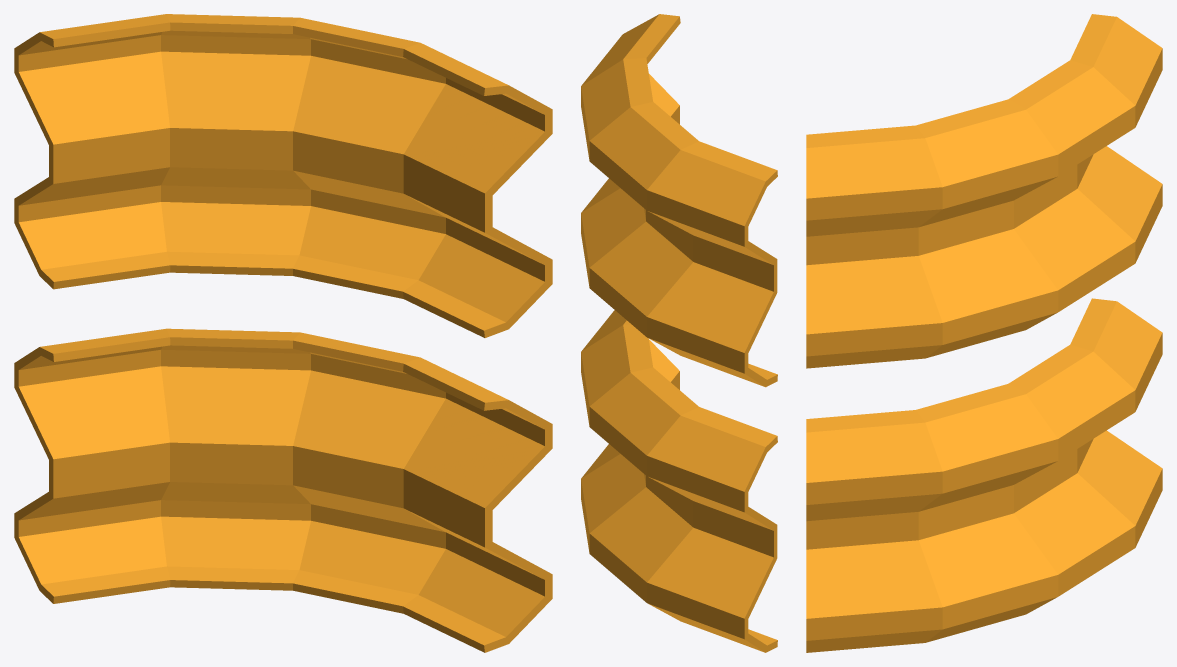
File: SM_Fence_Road_WBeam_Double_Metal_1m_Corner_Inner.fbx
The picture shows the model from 3 angles, left to right: view 1: azimuth 30°, elevation 25°; view 2: azimuth 150°, elevation 25°; view 3: azimuth 270°, elevation 25°; orthographic projection. The views are drawn at different scales.
Visible parts, largest first — view 1: SM_Fence_Road_WBeam_Double_Metal_1m_Corner_Inner; view 2: SM_Fence_Road_WBeam_Double_Metal_1m_Corner_Inner; view 3: SM_Fence_Road_WBeam_Double_Metal_1m_Corner_Inner.
Boxes of the visible parts, x1,y1,x2,y2 form: SM_Fence_Road_WBeam_Double_Metal_1m_Corner_Inner: (14,14,552,652); SM_Fence_Road_WBeam_Double_Metal_1m_Corner_Inner: (581,14,777,652); SM_Fence_Road_WBeam_Double_Metal_1m_Corner_Inner: (806,14,1162,652).
Bounding box in the file's own units: 0.454 × 0.718 × 0.454.
